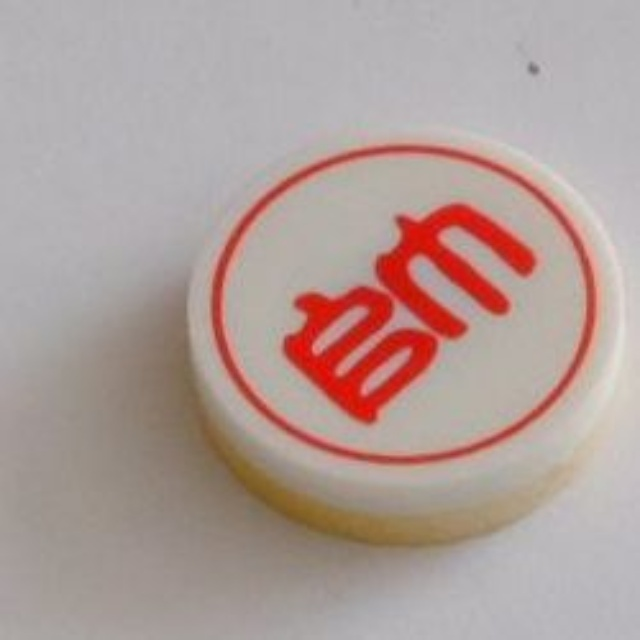red_tuong: (177, 123, 634, 537)
